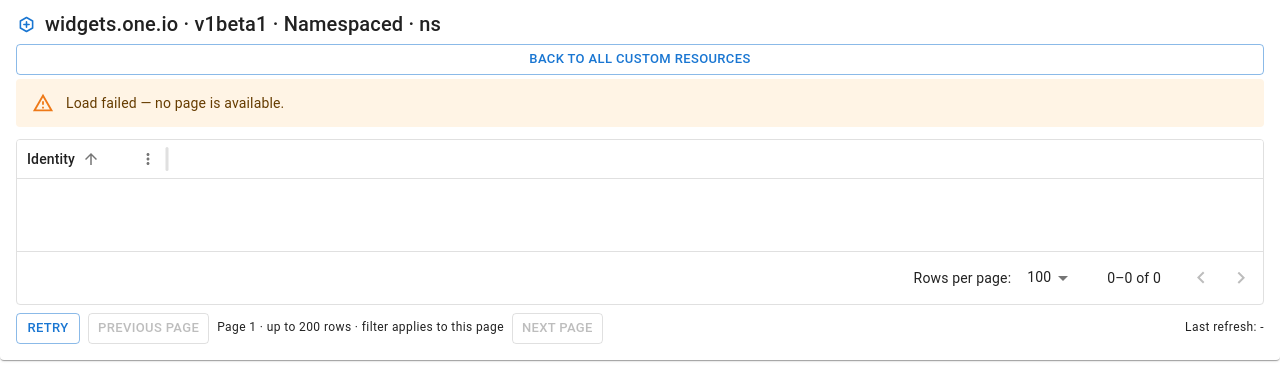
mounted exact-kind navigation › shows initial load failure without stale metadata and retries
Click the button "Retry": point(48, 328) [16, 313, 80, 344]
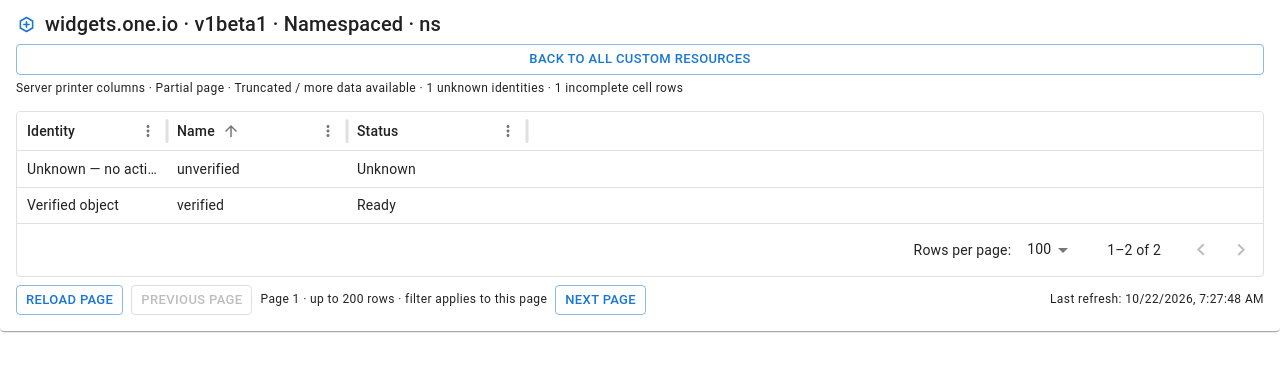
Expected: the text "verified" is shown, [167, 187, 347, 223]
Expected: the message "Load failed — no page is available." is gone
